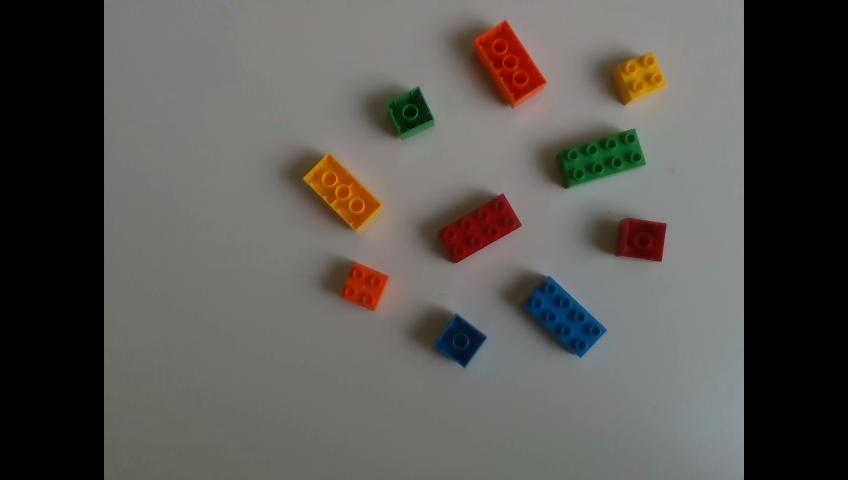2x2_blue: (436, 314, 488, 369)
2x2_green: (387, 87, 435, 137)
2x2_orange: (342, 261, 390, 309)
2x2_red: (617, 216, 666, 260)
2x2_yellow: (612, 51, 667, 104)
4x2_blue: (520, 275, 607, 360)
4x2_green: (557, 129, 646, 185)
4x2_orange: (467, 20, 546, 107)
4x2_red: (439, 192, 521, 260)
4x2_yellow: (303, 151, 383, 230)
